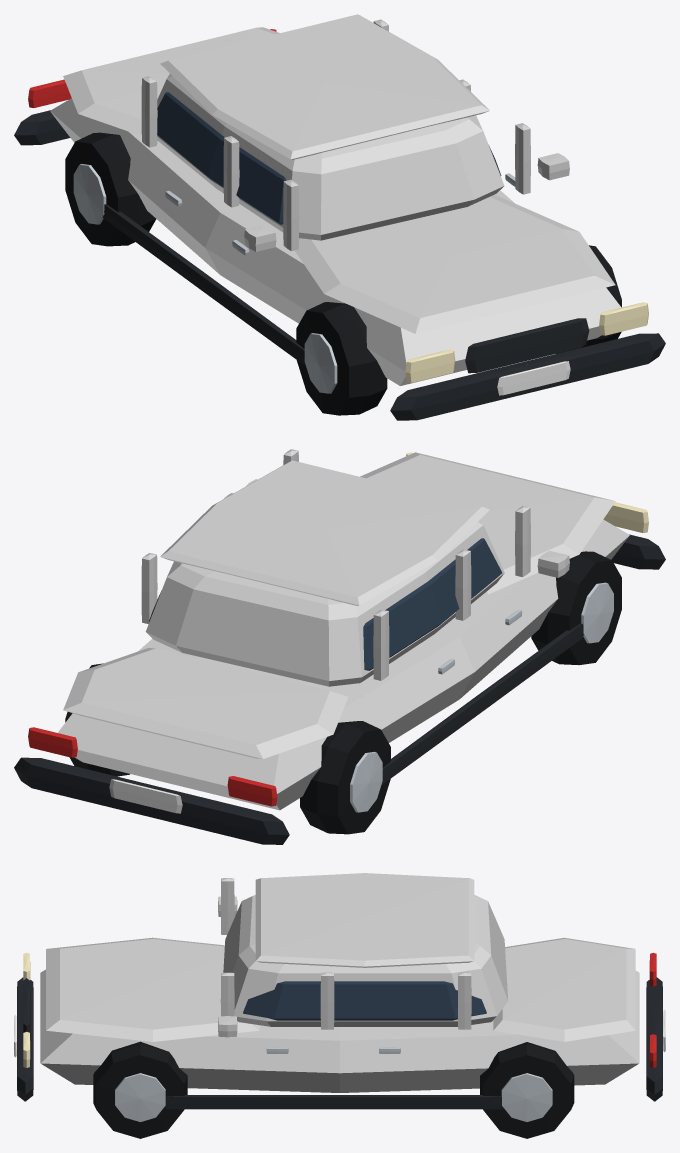
File: s-car-3.glb
3 renders of one model, top to bottom at view 1: azimuth 30°, elevation 25°; view 2: azimuth 150°, elevation 25°; view 3: azimuth 270°, elevation 25°, orthographic. The views are drawn at different scales.
Parts seen in each view (by area): view 1: p; view 2: p; view 3: p.
Part boxes in pixels (left/top/right/bottom): p: left=14, top=14, right=665, bottom=420; p: left=14, top=449, right=665, bottom=844; p: left=14, top=873, right=665, bottom=1138.
Size of the model in its own units: 2.16 by 1.32 by 4.6.
